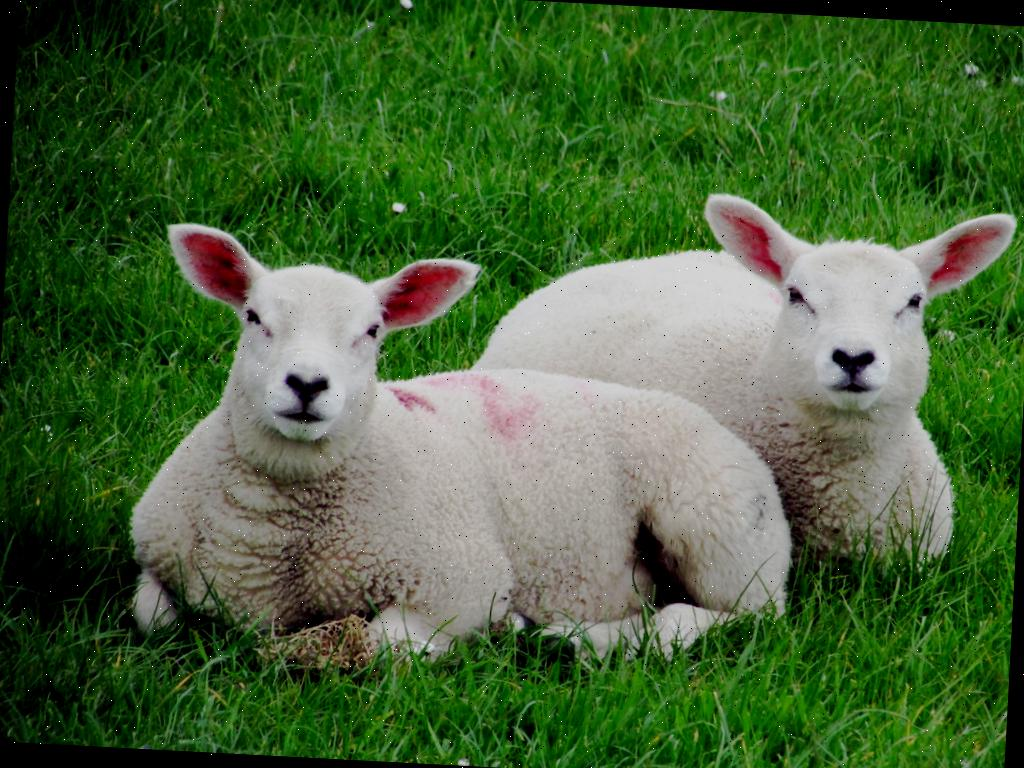Sheep: (128, 222, 810, 706), (463, 182, 1017, 576)
